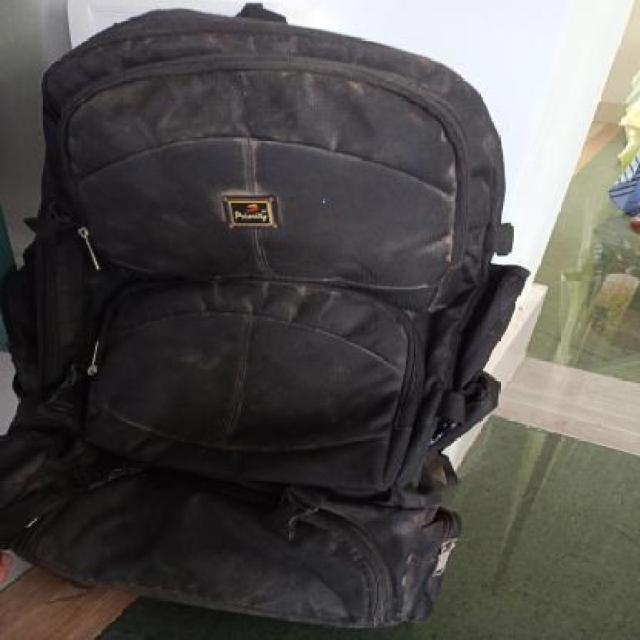backpack: (0, 0, 532, 634)
